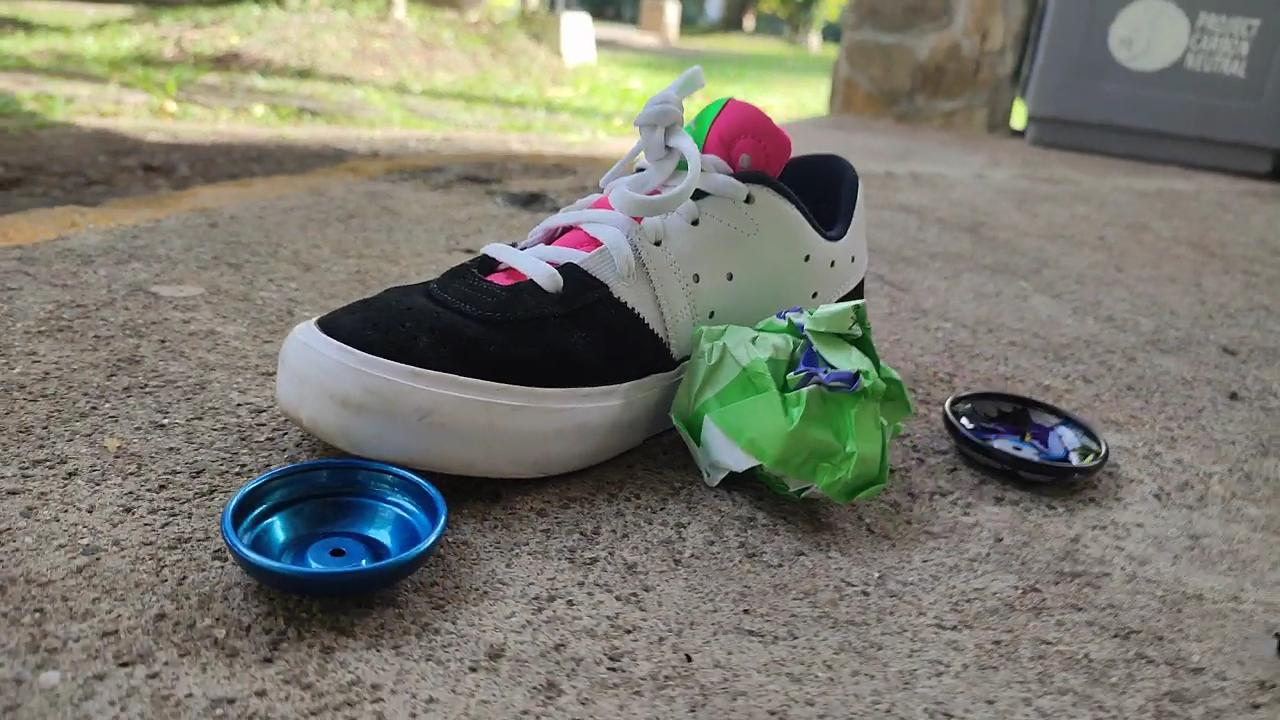Paper: (656, 264, 932, 531)
